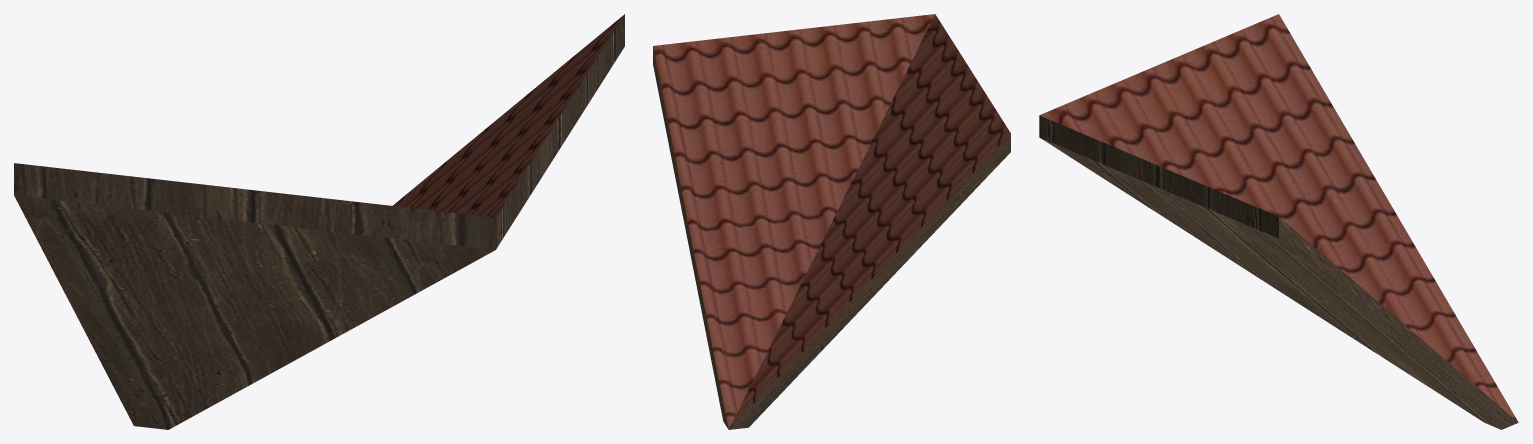
Rendered from ARC1010389.fbx.
The picture shows the model from 3 angles, left to right: view 1: azimuth 30°, elevation 25°; view 2: azimuth 150°, elevation 25°; view 3: azimuth 270°, elevation 25°; orthographic projection. The views are drawn at different scales.
Parts seen in each view (by area): view 1: smARC1010389; view 2: smARC1010389; view 3: smARC1010389.
Part boxes in pixels (x1=…): smARC1010389: x1=14, y1=14, x2=624, y2=429; smARC1010389: x1=653, y1=14, x2=1010, y2=429; smARC1010389: x1=1039, y1=14, x2=1518, y2=429.
Size of the model in its own units: 443 by 313 by 443.
1 material, 1 textured.
